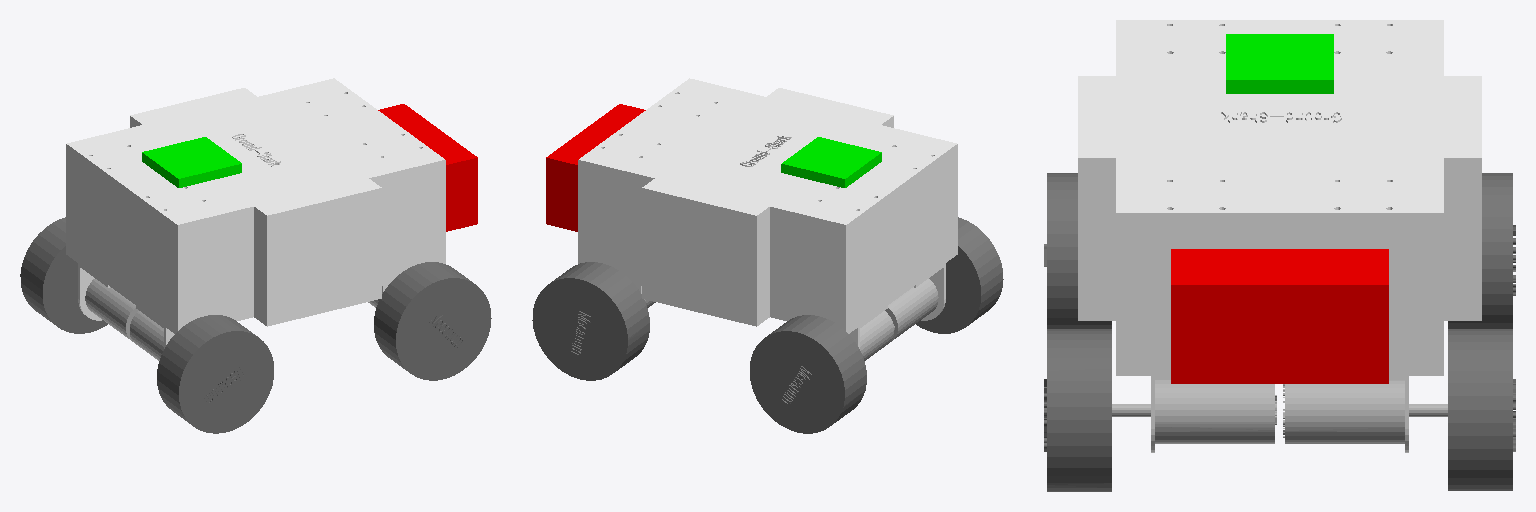
--- Render facts (derived) ---
The picture shows the robot from 3 angles, left to right: view 1: azimuth 30°, elevation 25°; view 2: azimuth 150°, elevation 25°; view 3: azimuth 270°, elevation 25°; orthographic projection.
Model Ground-Shark_description with 17 links and 16 joints (16 fixed), rooted at base_footprint, posed every joint at zero.
Links seen in each view (by area): view 1: base_link, Wheel_BR_Link, Wheel_FR_Link, Wheel_BL_Link, camera_link, imu_link, Motor_BL_Link, Motor_BR_Link, MotorBracket_BL_Link; view 2: base_link, Wheel_FL_Link, Wheel_BL_Link, Wheel_BR_Link, camera_link, imu_link, Motor_BR_Link, Motor_BL_Link, MotorBracket_BR_Link; view 3: base_link, camera_link, Wheel_FR_Link, Wheel_FL_Link, Motor_FL_Link, Motor_FR_Link, imu_link, Wheel_BL_Link, Wheel_BR_Link.
Boxes of the visible links, x1,y1,x2,y2 form: base_link: (66, 78, 445, 333); Wheel_BR_Link: (157, 315, 273, 433); Wheel_FR_Link: (374, 262, 491, 380); Wheel_BL_Link: (20, 217, 107, 333); camera_link: (378, 104, 477, 231); imu_link: (142, 137, 241, 187); Motor_BL_Link: (85, 279, 138, 341); Motor_BR_Link: (130, 311, 163, 360); MotorBracket_BL_Link: (78, 263, 109, 320); base_link: (578, 78, 957, 333); Wheel_FL_Link: (532, 262, 649, 380); Wheel_BL_Link: (750, 315, 866, 433); Wheel_BR_Link: (916, 217, 1003, 333); camera_link: (546, 104, 645, 231); imu_link: (781, 137, 881, 187); Motor_BR_Link: (885, 279, 938, 341); Motor_BL_Link: (860, 311, 893, 360); MotorBracket_BR_Link: (914, 263, 945, 320); base_link: (1078, 20, 1481, 375); camera_link: (1171, 249, 1388, 383); Wheel_FR_Link: (1044, 329, 1111, 491); Wheel_FL_Link: (1448, 329, 1515, 490); Motor_FL_Link: (1283, 380, 1447, 443); Motor_FR_Link: (1112, 380, 1276, 443); imu_link: (1226, 34, 1333, 93); Wheel_BL_Link: (1448, 173, 1515, 328); Wheel_BR_Link: (1044, 173, 1111, 328).
Size in the robot's own frame: 0.2675 by 0.217 by 0.154 metres.
Meshes: 14 distinct files referenced, 13 mesh visuals loaded (13 binary STL); not drawn: 1 (reference not matched to a file when rendering).

The robot description file, URDF, robot "Ground-Shark_description":
<?xml version="1.0" encoding="utf-8"?>
<!-- This URDF was automatically created by SolidWorks to URDF Exporter! Originally created by Stephen Brawner ([email redacted]) 
     Commit Version: 1.6.0-4-g7f85cfe  Build Version: 1.6.7995.38578
     For more information, please see http://wiki.ros.org/sw_urdf_exporter -->
<!-- 仿真的目的是验证要行算法的有效性，所以简化控制流程，忽略麦克纳姆轮的运动学解算，-->
<!-- 直接认为车轮与车身是固定连接的，车身支持XY轴的平移和绕Z轴的旋转 --> 
<!-- 也就是这个_fixed.urdf 只关心 Base_Link 即可，其他的都是多余的只影响视觉可删去 -->
<robot name="Ground-Shark_description">
    <link name="base_footprint">
    </link>
    <joint
        name="footprint_joint"
        type="fixed">
        <origin
            xyz="0 0 0.05"
            rpy="0 0 0" />
        <parent
            link="base_footprint" />
        <child
            link="base_link" />
        <axis
            xyz="0 0 0" />
    </joint>
    <link
        name="base_link">
        <inertial>
            <origin
                xyz="2.5891E-08 2.6576E-08 0.041501"
                rpy="0 0 0" />
            <mass
                value="2.8841" />
            <inertia
                ixx="0.0085039"
                ixy="-1.3598E-10"
                ixz="-3.1189E-09"
                iyy="0.011435"
                iyz="-3.3424E-09"
                izz="0.016627" />
        </inertial>
        <visual>
            <origin
                xyz="0 0 0"
                rpy="0 0 0" />
            <geometry>
                <mesh
                    filename="package://ground_shark_description/meshes/Base_Link.STL" />
            </geometry>
            <material
                name="">
                <color
                    rgba="1 1 1 1" />
            </material>
        </visual>
        <collision>
            <origin
                xyz="0 0 0"
                rpy="0 0 0" />
            <geometry>
                <mesh
                    filename="package://ground_shark_description/meshes/Base_Link.STL" />
            </geometry>
        </collision>
    </link>
    <link name="imu_link">
        <inertial>
            <origin
                xyz="0 0 0"
                rpy="0 0 0" />
            <mass
                value="0.03513" />
            <inertia
                ixx="1e-5"
                ixy="0.0"
                ixz="0.0"
                iyy="1e-5"
                iyz="0.0"
                izz="1e-5" />
        </inertial>
        <visual>
            <origin
                xyz="0 0 0"
                rpy="0 0 0" />
            <geometry>
                <box size="0.05 0.05 0.01"></box>
            </geometry>
            <material
                name="green">
                <color
                    rgba="0 1 0 1" />
            </material>
        </visual>
        <collision>
            <origin
                xyz="0 0 0"
                rpy="0 0 0" />
            <geometry>
                <box size="0.05 0.05 0.01"></box>
            </geometry>
        </collision>
    </link>
    <joint
        name="imu_joint"
        type="fixed">
        <origin
            xyz="-0.05 0 0.085"
            rpy="0 0 0" />
        <parent
            link="base_link" />
        <child
            link="imu_link" />
        <axis
            xyz="0 0 0" />
    </joint>
    <link name="camera_link">
        <inertial>
            <origin
                xyz="0 0 0"
                rpy="0 0 0" />
            <mass
                value="0.073513" />
            <inertia
                ixx="1e-5"
                ixy="0.0"
                ixz="0.0"
                iyy="1e-5"
                iyz="0.0"
                izz="1e-5" />
        </inertial>
        <visual>
            <origin
                xyz="0 0 0"
                rpy="0 0 0" />
            <geometry>
                <box size="0.05 0.1 0.05"></box>
            </geometry>
            <material
                name="red">
                <color
                    rgba="1 0 0 1" />
            </material>
        </visual>
        <collision>
            <origin
                xyz="0 0 0"
                rpy="0 0 0" />
            <geometry>
                <box size="0.1 0.05 0.05"></box>
            </geometry>
        </collision>
    </link>
    <joint
        name="camera_joint"
        type="fixed">
        <origin
            xyz="0.12 0 0.04"
            rpy="0 0 0" />
        <parent
            link="base_link" />
        <child
            link="camera_link" />
        <axis
            xyz="0 0 0" />
    </joint>
    <link
        name="lidar_link">
        <inertial>
            <origin
                xyz="-0.011911 0.00042455 -0.023771"
                rpy="0 0 0" />
            <mass
                value="0.073513" />
            <inertia
                ixx="1.8143E-05"
                ixy="-3.1353E-07"
                ixz="3.2518E-07"
                iyy="2.3964E-05"
                iyz="1.0718E-08"
                izz="3.9441E-05" />
        </inertial>
        <visual>
            <origin
                xyz="0 0 0"
                rpy="0 0 0" />
            <geometry>
                <mesh
                    filename="package://ground_shark_description/meshes/Lader_Link.STL" />
            </geometry>
            <material
                name="black">
                <color
                    rgba="0 0 0 1" />
            </material>
        </visual>
        <collision>
            <origin
                xyz="0 0 0"
                rpy="0 0 0" />
            <geometry>
                <mesh
                    filename="package://ground_shark_description/meshes/Lader_Link.STL" />
            </geometry>
        </collision>
    </link>
    <joint
        name="Lidar_joint"
        type="fixed">
        <origin
            xyz="0.071496 -0.00087628 0.138"
            rpy="0 0 0" />
        <parent
            link="base_link" />
        <child
            link="lidar_link" />
        <axis
            xyz="0 0 0" />
    </joint>
    <link
        name="MotorBracket_FL_Link">
        <inertial>
            <origin
                xyz="-8.3267E-17 0.010181 -0.0087943"
                rpy="0 0 0" />
            <mass
                value="0.0060832" />
            <inertia
                ixx="2.1292E-06"
                ixy="4.3538E-21"
                ixz="-3.6923E-21"
                iyy="1.9108E-06"
                iyz="6.1537E-07"
                izz="1.8375E-06" />
        </inertial>
        <visual>
            <origin
                xyz="0 0 0"
                rpy="0 0 0" />
            <geometry>
                <mesh
                    filename="package://ground_shark_description/meshes/MotorBracket_FL_Link.STL" />
            </geometry>
            <material
                name="">
                <color
                    rgba="1 1 1 1" />
            </material>
        </visual>
        <collision>
            <origin
                xyz="0 0 0"
                rpy="0 0 0" />
            <geometry>
                <mesh
                    filename="package://ground_shark_description/meshes/MotorBracket_FL_Link.STL" />
            </geometry>
        </collision>
    </link>
    <joint
        name="MotorBracket_FL_joint"
        type="fixed">
        <origin
            xyz="0.085 0.037991 -0.002"
            rpy="0 0 0" />
        <parent
            link="base_link" />
        <child
            link="MotorBracket_FL_Link" />
        <axis
            xyz="0 0 0" />
    </joint>
    <link
        name="Motor_FL_Link">
        <inertial>
            <origin
                xyz="-9.5264704250142E-08 0.000494051151757539 -3.20373803028295E-07"
                rpy="0 0 0" />
            <mass
                value="0.0420923924205949" />
            <inertia
                ixx="1.37751524776014E-05"
                ixy="-1.14064183831158E-10"
                ixz="2.71882601075011E-10"
                iyy="4.99008312109064E-06"
                iyz="-3.84353111674059E-10"
                izz="1.3774517725084E-05" />
        </inertial>
        <visual>
            <origin
                xyz="0 0 0"
                rpy="0 0 0" />
            <geometry>
                <mesh
                    filename="package://ground_shark_description/meshes/Motor_FL_Link.STL" />
            </geometry>
            <material
                name="silvery">
                <color
                    rgba="0.7529411764705882 0.7529411764705882 0.7529411764705882 1" />
            </material>
        </visual>
        <collision>
            <origin
                xyz="0 0 0"
                rpy="0 0 0" />
            <!-- 碰撞这里可以改为简单的圆柱体 cyinder 来加快碰撞检测效率 -->
            <!-- 因为是麦克纳姆轮，实际中改为一个球体以表示能够万向移动 -->
            <geometry>
                <mesh
                    filename="package://ground_shark_description/meshes/Motor_FL_Link.STL" />
            </geometry>
        </collision>
    </link>
    <joint
        name="Motor_FL_joint"
        type="fixed">
        <origin
            xyz="0 -0.0079908 -0.0245"
            rpy="0 0 0" />
        <parent
            link="MotorBracket_FL_Link" />
        <child
            link="Motor_FL_Link" />
        <axis
            xyz="0 0 0" />
    </joint>
    <link
        name="Wheel_FL_Link">
        <inertial>
            <origin
                xyz="-1.7981E-07 -0.014993 -7.7803E-07"
                rpy="0 0 0" />
            <mass
                value="0.1326" />
            <inertia
                ixx="5.6556E-05"
                ixy="3.6894E-10"
                ixz="1.2476E-09"
                iyy="9.3196E-05"
                iyz="1.6011E-09"
                izz="5.655E-05" />
        </inertial>
        <visual>
            <origin
                xyz="0 0 0"
                rpy="0 0 0" />
            <geometry>
                <mesh
                    filename="package://ground_shark_description/meshes/Wheel_FL_Link.STL" />
            </geometry>
            <material
                name="gray">
                <color
                    rgba="0.5 0.5 0.5 1" />
            </material>
        </visual>
        <collision>
            <origin
                xyz="0 0 0"
                rpy="0 0 0" />
            <geometry>
                <mesh
                    filename="package://ground_shark_description/meshes/Wheel_FL_Link.STL" />
            </geometry>
        </collision>
    </link>
    <joint
        name="wheel_FL_joint"
        type="fixed">
        <origin
            xyz="0 0.0775 0"
            rpy="0 0 0" />
        <parent
            link="Motor_FL_Link" />
        <child
            link="Wheel_FL_Link" />
        <axis
            xyz="0 1 0" />
    </joint>
    <link
        name="MotorBracket_FR_Link">
        <inertial>
            <origin
                xyz="0 -0.0101809797663875 -0.00879428398855098"
                rpy="0 0 0" />
            <mass
                value="0.0060832210537672" />
            <inertia
                ixx="2.12921906667825E-06"
                ixy="-1.10839442466624E-21"
                ixz="1.63388096679982E-21"
                iyy="1.91083611877144E-06"
                iyz="-6.15365329682497E-07"
                izz="1.83749390010958E-06" />
        </inertial>
        <visual>
            <origin
                xyz="0 0 0"
                rpy="0 0 0" />
            <geometry>
                <mesh
                    filename="package://ground_shark_description/meshes/MotorBracket_FR_Link.STL" />
            </geometry>
            <material
                name="">
                <color
                    rgba="1 1 1 1" />
            </material>
        </visual>
        <collision>
            <origin
                xyz="0 0 0"
                rpy="0 0 0" />
            <geometry>
                <mesh
                    filename="package://ground_shark_description/meshes/MotorBracket_FR_Link.STL" />
            </geometry>
        </collision>
    </link>
    <joint
        name="MotorBracket_FR_joint"
        type="fixed">
        <origin
            xyz="0.085 -0.037991 -0.002"
            rpy="0 0 0" />
        <parent
            link="base_link" />
        <child
            link="MotorBracket_FR_Link" />
        <axis
            xyz="0 0 0" />
    </joint>
    <link
        name="Motor_FR_Link">
        <inertial>
            <origin
                xyz="-2.5972E-07 -0.00049405 -2.1038E-07"
                rpy="0 0 0" />
            <mass
                value="0.042092" />
            <inertia
                ixx="1.3774E-05"
                ixy="3.1167E-10"
                ixz="-3.1417E-11"
                iyy="4.9901E-06"
                iyz="2.5219E-10"
                izz="1.3775E-05" />
        </inertial>
        <visual>
            <origin
                xyz="0 0 0"
                rpy="0 0 0" />
            <geometry>
                <mesh
                    filename="package://ground_shark_description/meshes/Motor_FR_Link.STL" />
            </geometry>
            <material
                name="silvery">
                <color
                    rgba="0.7529411764705882 0.7529411764705882 0.7529411764705882 1" />
            </material>
        </visual>
        <collision>
            <origin
                xyz="0 0 0"
                rpy="0 0 0" />
            <geometry>
                <mesh
                    filename="package://ground_shark_description/meshes/Motor_FR_Link.STL" />
            </geometry>
        </collision>
    </link>
    <joint
        name="Motor_FR_joint"
        type="fixed">
        <origin
            xyz="0 0.0079908 -0.0245"
            rpy="0 0 0" />
        <parent
            link="MotorBracket_FR_Link" />
        <child
            link="Motor_FR_Link" />
        <axis
            xyz="0 0 0" />
    </joint>
    <link
        name="Wheel_FR_Link">
        <inertial>
            <origin
                xyz="7.27954014193011E-07 0.014992834588668 -3.28245396627458E-07"
                rpy="0 0 0" />
            <mass
                value="0.132597246667057" />
            <inertia
                ixx="5.65534796346194E-05"
                ixy="1.49742001797579E-09"
                ixz="3.00605535168159E-09"
                iyy="9.31961918555651E-05"
                iyz="-6.7636944845642E-10"
                izz="5.65525507281201E-05" />
        </inertial>
        <visual>
            <origin
                xyz="0 0 0"
                rpy="0 0 0" />
            <geometry>
                <mesh
                    filename="package://ground_shark_description/meshes/Wheel_FR_Link.STL" />
            </geometry>
            <material
                name="gray">
                <color
                    rgba="0.5 0.5 0.5 1" />
            </material>
        </visual>
        <collision>
            <origin
                xyz="0 0 0"
                rpy="0 0 0" />
            <geometry>
                <mesh
                    filename="package://ground_shark_description/meshes/Wheel_FR_Link.STL" />
            </geometry>
        </collision>
    </link>
    <joint
        name="wheel_FR_joint"
        type="fixed">
        <origin
            xyz="0 -0.0775 0"
            rpy="0 0 0" />
        <parent
            link="Motor_FR_Link" />
        <child
            link="Wheel_FR_Link" />
        <axis
            xyz="0 -1 0" />
    </joint>
    <link
        name="MotorBracket_BL_Link">
        <inertial>
            <origin
                xyz="-5.5511E-17 0.010181 -0.0087943"
                rpy="0 0 0" />
            <mass
                value="0.0060832" />
            <inertia
                ixx="2.1292E-06"
                ixy="3.0379E-21"
                ixz="-3.2873E-21"
                iyy="1.9108E-06"
                iyz="6.1537E-07"
                izz="1.8375E-06" />
        </inertial>
        <visual>
            <origin
                xyz="0 0 0"
                rpy="0 0 0" />
            <geometry>
                <mesh
                    filename="package://ground_shark_description/meshes/MotorBracket_BL_Link.STL" />
            </geometry>
            <material
                name="">
                <color
                    rgba="1 1 1 1" />
            </material>
        </visual>
        <collision>
            <origin
                xyz="0 0 0"
                rpy="0 0 0" />
            <geometry>
                <mesh
                    filename="package://ground_shark_description/meshes/MotorBracket_BL_Link.STL" />
            </geometry>
        </collision>
    </link>
    <joint
        name="MotorBracket_BL_joint"
        type="fixed">
        <origin
            xyz="-0.085 0.037991 -0.002"
            rpy="0 0 0" />
        <parent
            link="base_link" />
        <child
            link="MotorBracket_BL_Link" />
        <axis
            xyz="0 0 0" />
    </joint>
    <link
        name="Motor_BL_Link">
        <inertial>
            <origin
                xyz="-9.52647042362642E-08 0.000494051151757761 -3.20373802972784E-07"
                rpy="0 0 0" />
            <mass
                value="0.0420923924205944" />
            <inertia
                ixx="1.37751524776011E-05"
                ixy="-1.14064183836825E-10"
                ixz="2.71882601070878E-10"
                iyy="4.99008312109062E-06"
                iyz="-3.84353111614291E-10"
                izz="1.37745177250838E-05" />
        </inertial>
        <visual>
            <origin
                xyz="0 0 0"
                rpy="0 0 0" />
            <geometry>
                <mesh
                    filename="package://ground_shark_description/meshes/Motor_BL_Link.STL" />
            </geometry>
            <material
                name="silvery">
                <color
                    rgba="0.7529411764705882 0.7529411764705882 0.7529411764705882 1" />
            </material>
        </visual>
        <collision>
            <origin
                xyz="0 0 0"
                rpy="0 0 0" />
            <geometry>
                <mesh
                    filename="package://ground_shark_description/meshes/Motor_BL_Link.STL" />
            </geometry>
        </collision>
    </link>
    <joint
        name="Motor_BL_joint"
        type="fixed">
        <origin
            xyz="0 -0.0079908 -0.0245"
            rpy="0 0 0" />
        <parent
            link="MotorBracket_BL_Link" />
        <child
            link="Motor_BL_Link" />
        <axis
            xyz="0 0 0" />
    </joint>
    <link
        name="Wheel_BL_Link">
        <inertial>
            <origin
                xyz="6.68215741628231E-08 -0.0149928345886679 -7.95736743344766E-07"
                rpy="0 0 0" />
            <mass
                value="0.132597246667058" />
            <inertia
                ixx="5.6554543362845E-05"
                ixy="-1.38547605071664E-10"
                ixz="2.62997090832959E-09"
                iyy="9.31961918555653E-05"
                iyz="1.63723758305458E-09"
                izz="5.6551486999895E-05" />
        </inertial>
        <visual>
            <origin
                xyz="0 0 0"
                rpy="0 0 0" />
            <geometry>
                <mesh
                    filename="package://ground_shark_description/meshes/Wheel_BL_Link.STL" />
            </geometry>
            <material
                name="gray">
                <color
                    rgba="0.5 0.5 0.5 1" />
            </material>
        </visual>
        <collision>
            <origin
                xyz="0 0 0"
                rpy="0 0 0" />
            <geometry>
                <mesh
                    filename="package://ground_shark_description/meshes/Wheel_BL_Link.STL" />
            </geometry>
        </collision>
    </link>
    <joint
        name="wheel_BL_joint"
        type="fixed">
        <origin
            xyz="0 0.0775 0"
            rpy="0 0 0" />
        <parent
            link="Motor_BL_Link" />
        <child
            link="Wheel_BL_Link" />
        <axis
            xyz="0 1 0" />
    </joint>
    <link
        name="MotorBracket_BR_Link">
        <inertial>
            <origin
                xyz="-0.17 -0.086162520629411 -0.00879428398855092"
                rpy="0 0 0" />
            <mass
                value="0.00608322105376718" />
            <inertia
                ixx="2.12921906667825E-06"
                ixy="-1.34967761970091E-21"
                ixz="2.06216805455324E-21"
                iyy="1.91083611877144E-06"
                iyz="-6.153653296825E-07"
                izz="1.83749390010958E-06" />
        </inertial>
        <visual>
            <origin
                xyz="0 0 0"
                rpy="0 0 0" />
            <geometry>
                <mesh
                    filename="package://ground_shark_description/meshes/MotorBracket_BR_Link.STL" />
            </geometry>
            <material
                name="">
                <color
                    rgba="1 1 1 1" />
            </material>
        </visual>
        <collision>
            <origin
                xyz="0 0 0"
                rpy="0 0 0" />
            <geometry>
                <mesh
                    filename="package://ground_shark_description/meshes/MotorBracket_BR_Link.STL" />
            </geometry>
        </collision>
    </link>
    <joint
        name="MotorBracket_BR_joint"
        type="fixed">
        <origin
            xyz="0.085 0.037991 -0.002"
            rpy="0 0 0" />
        <parent
            link="base_link" />
        <child
            link="MotorBracket_BR_Link" />
        <axis
            xyz="0 0 0" />
    </joint>
    <link
        name="Motor_BR_Link">
        <inertial>
            <origin
                xyz="0.00049405 -2.5972E-07 -2.1038E-07"
                rpy="0 0 0" />
            <mass
                value="0.042092" />
            <inertia
                ixx="4.9901E-06"
                ixy="-3.1167E-10"
                ixz="-2.5219E-10"
                iyy="1.3774E-05"
                iyz="-3.1417E-11"
                izz="1.3775E-05" />
        </inertial>
        <visual>
            <origin
                xyz="0 0 0"
                rpy="0 0 0" />
            <geometry>
                <mesh
                    filename="package://ground_shark_description/meshes/Motor_BR_Link.STL" />
            </geometry>
            <material
                name="silvery">
                <color
                    rgba="0.7529411764705882 0.7529411764705882 0.7529411764705882 1" />
            </material>
        </visual>
        <collision>
            <origin
                xyz="0 0 0"
                rpy="0 0 0" />
            <geometry>
                <mesh
                    filename="package://ground_shark_description/meshes/Motor_BR_Link.STL" />
            </geometry>
        </collision>
    </link>
    <joint
        name="Motor_BR_joint"
        type="fixed">
        <origin
            xyz="-0.17 -0.067991 -0.0245"
            rpy="0 0 -1.5708" />
        <parent
            link="MotorBracket_BR_Link" />
        <child
            link="Motor_BR_Link" />
        <axis
            xyz="0 0 0" />
    </joint>
    <link
        name="Wheel_BR_Link">
        <inertial>
            <origin
                xyz="-1.0632E-05 0.014993 -1.9304E-05"
                rpy="0 0 0" />
            <mass
                value="0.1326" />
            <inertia
                ixx="5.6551E-05"
                ixy="-9.5754E-10"
                ixz="-2.5947E-09"
                iyy="9.3196E-05"
                iyz="-1.3352E-09"
                izz="5.6555E-05" />
        </inertial>
        <visual>
            <origin
                xyz="0 0 0"
                rpy="0 0 0" />
            <geometry>
                <mesh
                    filename="package://ground_shark_description/meshes/Wheel_BR_Link.STL" />
            </geometry>
            <material
                name="gray">
                <color
                    rgba="0.5 0.5 0.5 1" />
            </material>
        </visual>
        <collision>
            <origin
                xyz="0 0 0"
                rpy="0 0 0" />
            <geometry>
                <mesh
                    filename="package://ground_shark_description/meshes/Wheel_BR_Link.STL" />
            </geometry>
        </collision>
    </link>
    <joint
        name="wheel_BR_joint"
        type="fixed">
        <origin
            xyz="0.0775 1.0167E-05 1.8655E-05"
            rpy="0 0 1.5708" />
        <parent
            link="Motor_BR_Link" />
        <child
            link="Wheel_BR_Link" />
        <axis
            xyz="0 -1 0" />
    </joint>
</robot>
